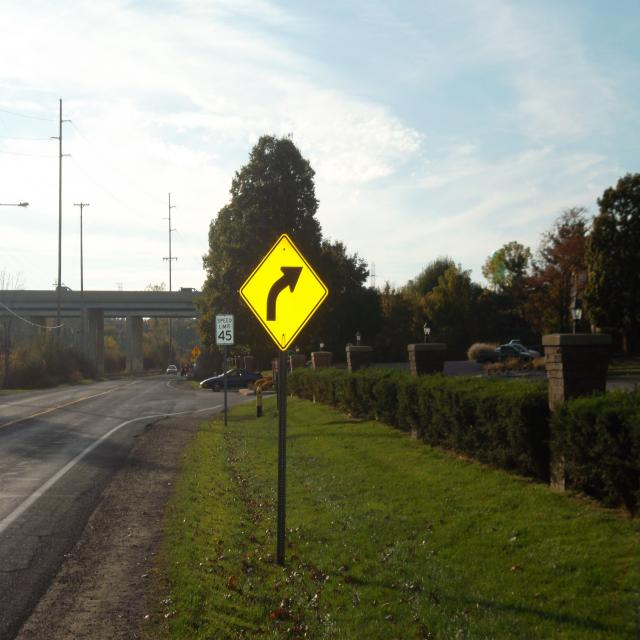regulatory: (216, 314, 234, 345)
warning: (238, 234, 329, 350), (192, 346, 202, 358)
